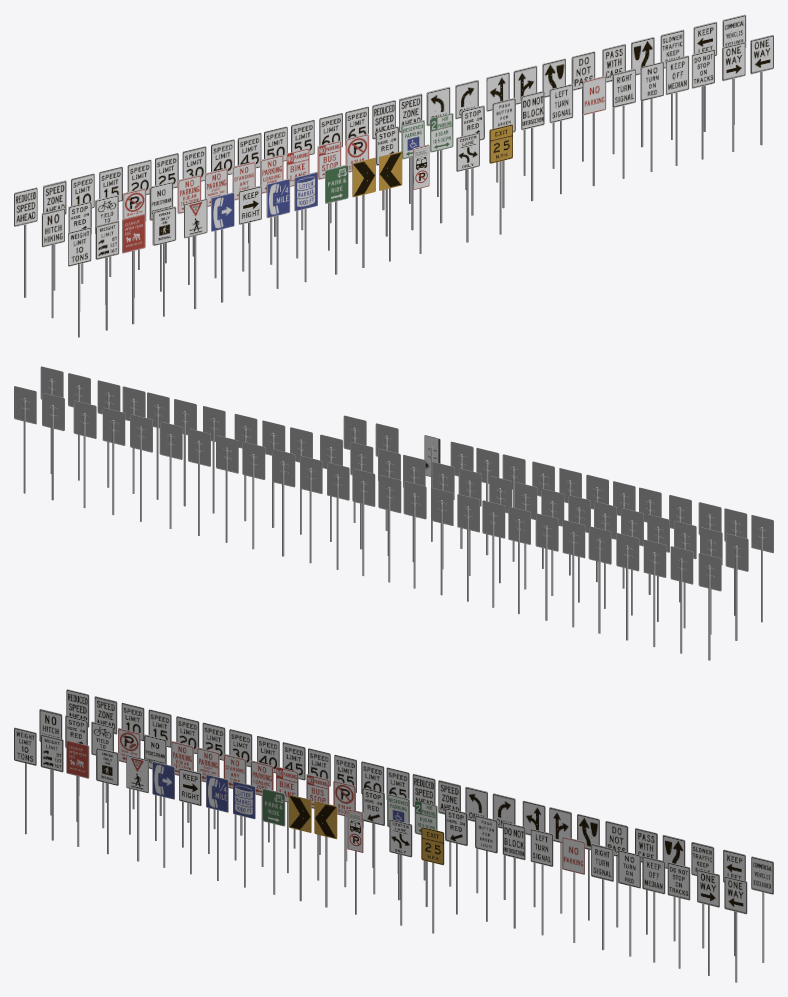
File: signs_5.fbx
3 views of the same model, one above another, from view 1: azimuth 30°, elevation 25°; view 2: azimuth 150°, elevation 25°; view 3: azimuth 330°, elevation 25° (orthographic). The views are drawn at different scales.
Visible parts, largest first — view 1: sign_149, sign_121, sign_144.001, sign_124, sign_257, sign_148, sign_146, sign_145, sign_126, sign_123, sign_129, sign_122 (+55 smaller); view 2: sign_115, sign_108, sign_114, sign_112, sign_104, sign_103, sign_100, sign_98, sign_97, sign_96, sign_95, sign_94 (+55 smaller); view 3: sign_257, sign_152, sign_121, sign_118, sign_153, sign_151, sign_258, sign_145, sign_144.001, sign_126, sign_120, sign_125 (+55 smaller).
Boxes of the visible parts, <box> form: sign_149: <box>266,178,290,288</box>; sign_121: <box>665,55,689,165</box>; sign_144.001: <box>95,220,119,330</box>; sign_124: <box>582,75,606,186</box>; sign_257: <box>456,132,479,242</box>; sign_148: <box>238,185,261,295</box>; sign_146: <box>184,198,207,309</box>; sign_145: <box>122,214,145,324</box>; sign_126: <box>521,90,544,201</box>; sign_123: <box>612,68,635,178</box>; sign_129: <box>430,113,453,223</box>; sign_122: <box>640,61,663,171</box>; sign_115: <box>73,400,96,508</box>; sign_108: <box>272,449,295,556</box>; sign_114: <box>102,407,125,515</box>; sign_112: <box>159,421,182,528</box>; sign_104: <box>378,475,401,582</box>; sign_103: <box>403,481,426,588</box>; sign_100: <box>482,500,505,607</box>; sign_98: <box>535,513,558,620</box>; sign_97: <box>562,520,585,627</box>; sign_96: <box>588,526,611,633</box>; sign_95: <box>616,533,639,640</box>; sign_94: <box>643,539,666,647</box>; sign_257: <box>389,819,412,925</box>; sign_152: <box>288,794,311,901</box>; sign_121: <box>642,856,665,962</box>; sign_118: <box>724,876,747,982</box>; sign_153: <box>314,801,337,907</box>; sign_151: <box>262,788,285,894</box>; sign_258: <box>421,827,444,933</box>; sign_145: <box>66,740,89,846</box>; sign_144.001: <box>40,734,63,840</box>; sign_126: <box>502,822,525,928</box>; sign_120: <box>667,862,690,968</box>; sign_125: <box>530,828,553,935</box>.
Size of the model in its own units: 15.68 by 2.2 by 2.06.
